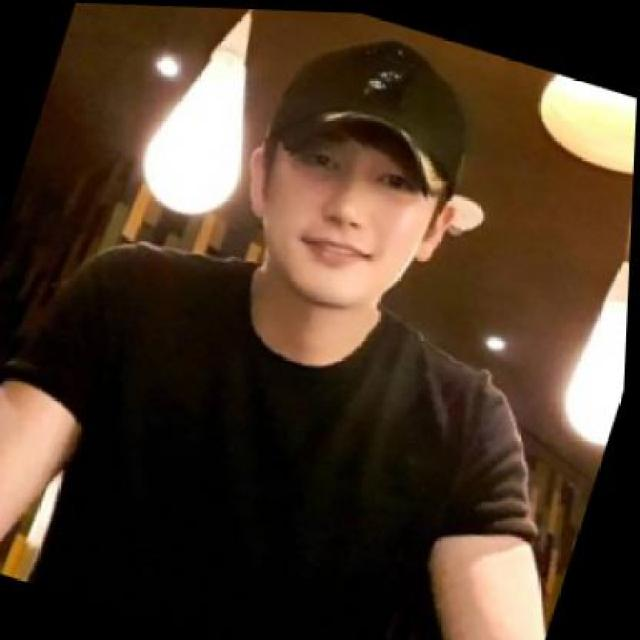hat: (260, 8, 494, 198)
